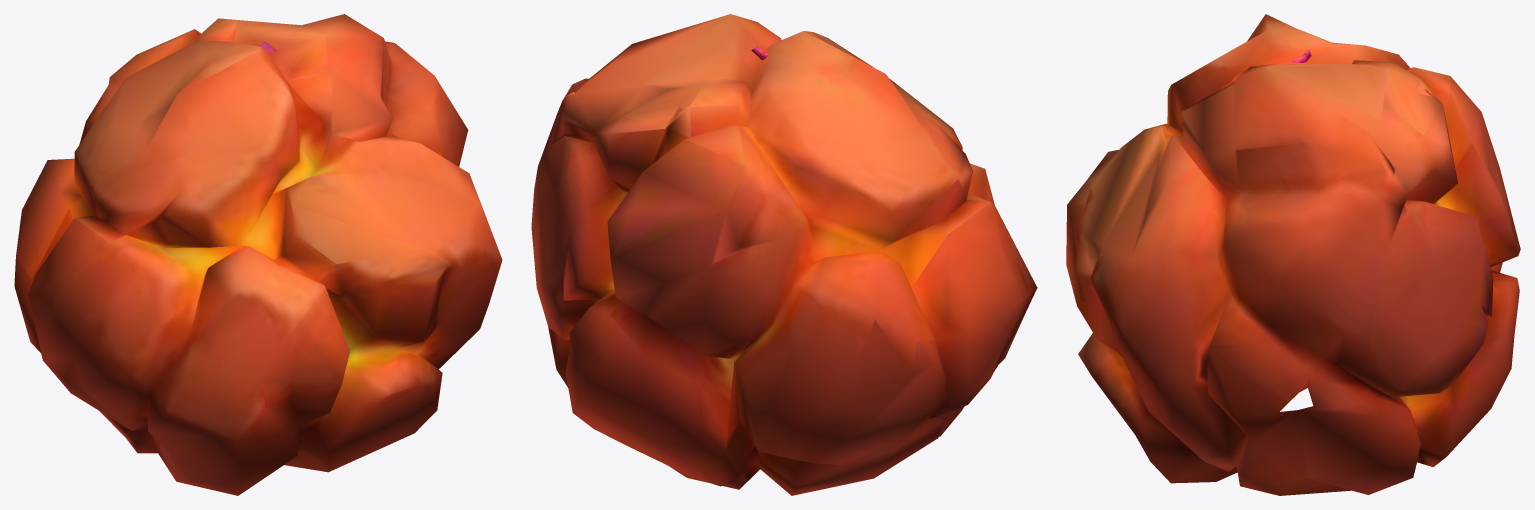
The model's file is can-pedras.glb.
The picture shows the model from 3 angles, left to right: view 1: azimuth 30°, elevation 25°; view 2: azimuth 150°, elevation 25°; view 3: azimuth 270°, elevation 25°; orthographic projection. The views are drawn at different scales.
Parts seen in each view (by area): view 1: rocha2; view 2: rocha2; view 3: rocha2.
Boxes of the visible parts, left/top/right/bottom form: rocha2: left=14, top=14, right=502, bottom=495; rocha2: left=531, top=14, right=1037, bottom=495; rocha2: left=1066, top=14, right=1520, bottom=495.
Size of the model in its own units: 2.42 by 2.1 by 2.08.
Materials: 1 (1 with a texture image).
